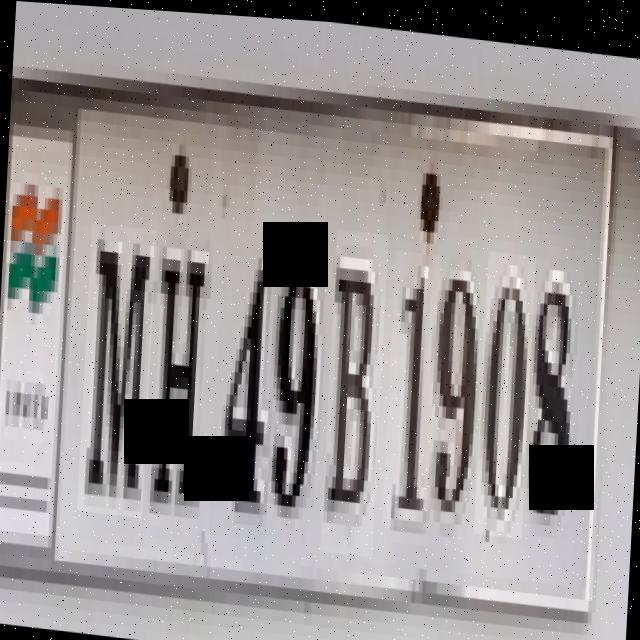0: (474, 243, 536, 533)
1: (382, 245, 442, 526)
4: (208, 239, 280, 538)
8: (524, 253, 584, 519)
9: (427, 268, 489, 526), (264, 255, 326, 505)
B: (320, 224, 389, 553)
H: (147, 235, 216, 522)
M: (78, 221, 158, 517)
